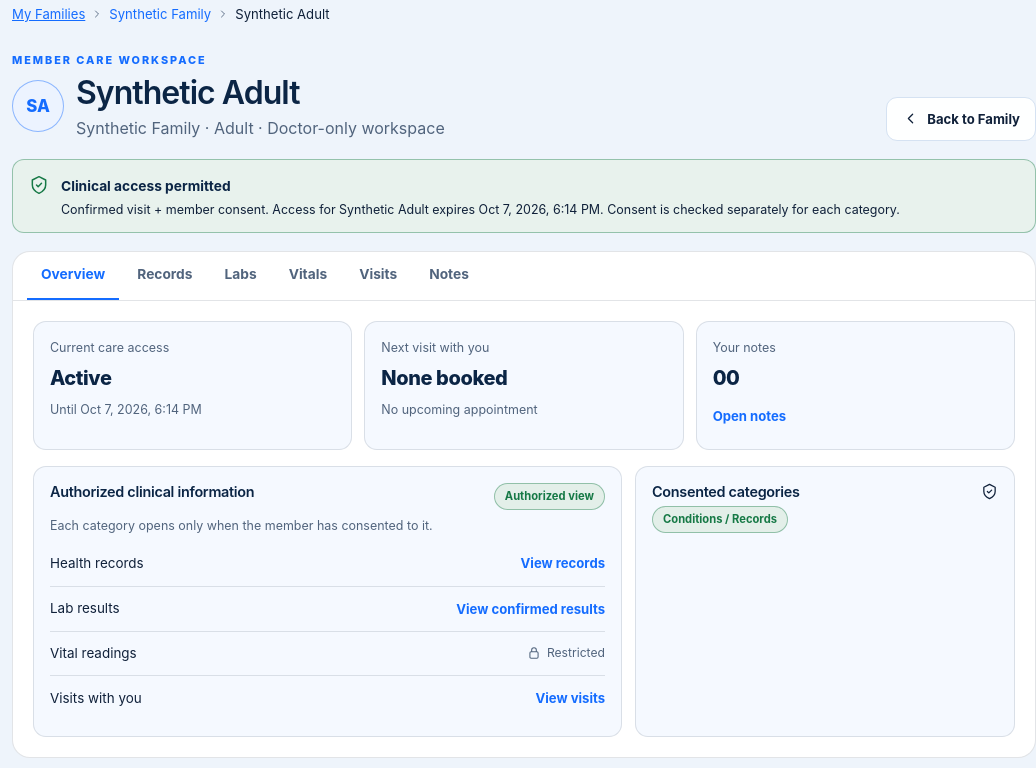
Test: DoctorMemberPage › tells an authorised empty category apart from a restricted one
Click the tab "Records".
click(165, 276)  # box [123,252,206,300]
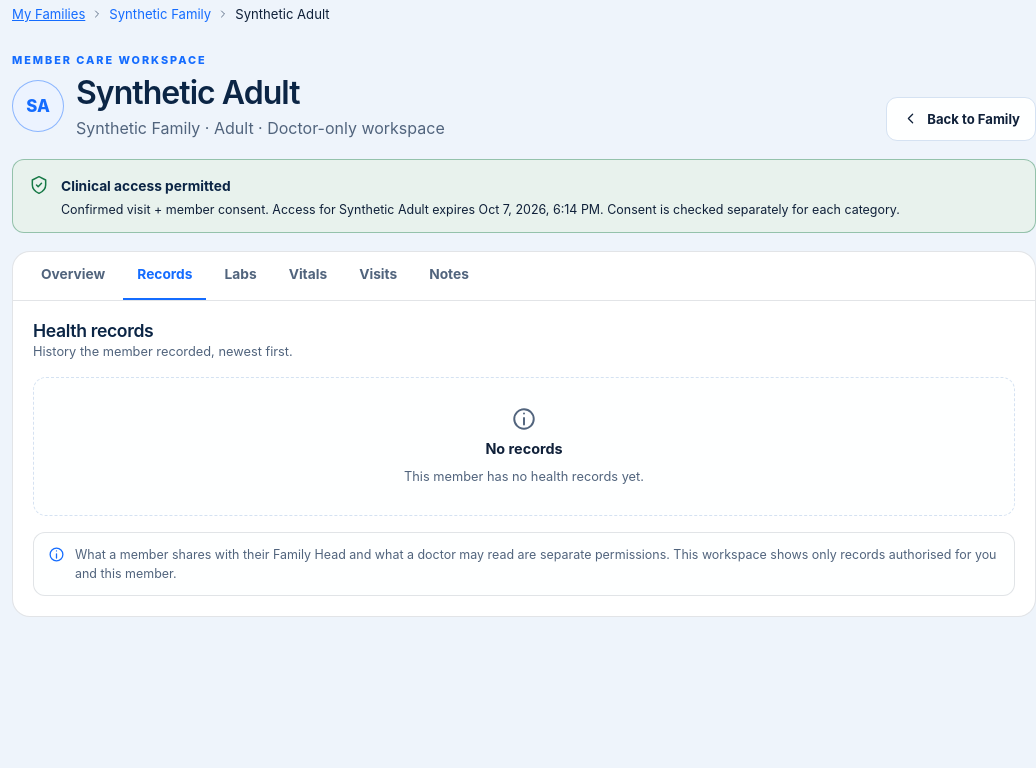
Expected: the text "No records" is shown, [485,438,563,461]
